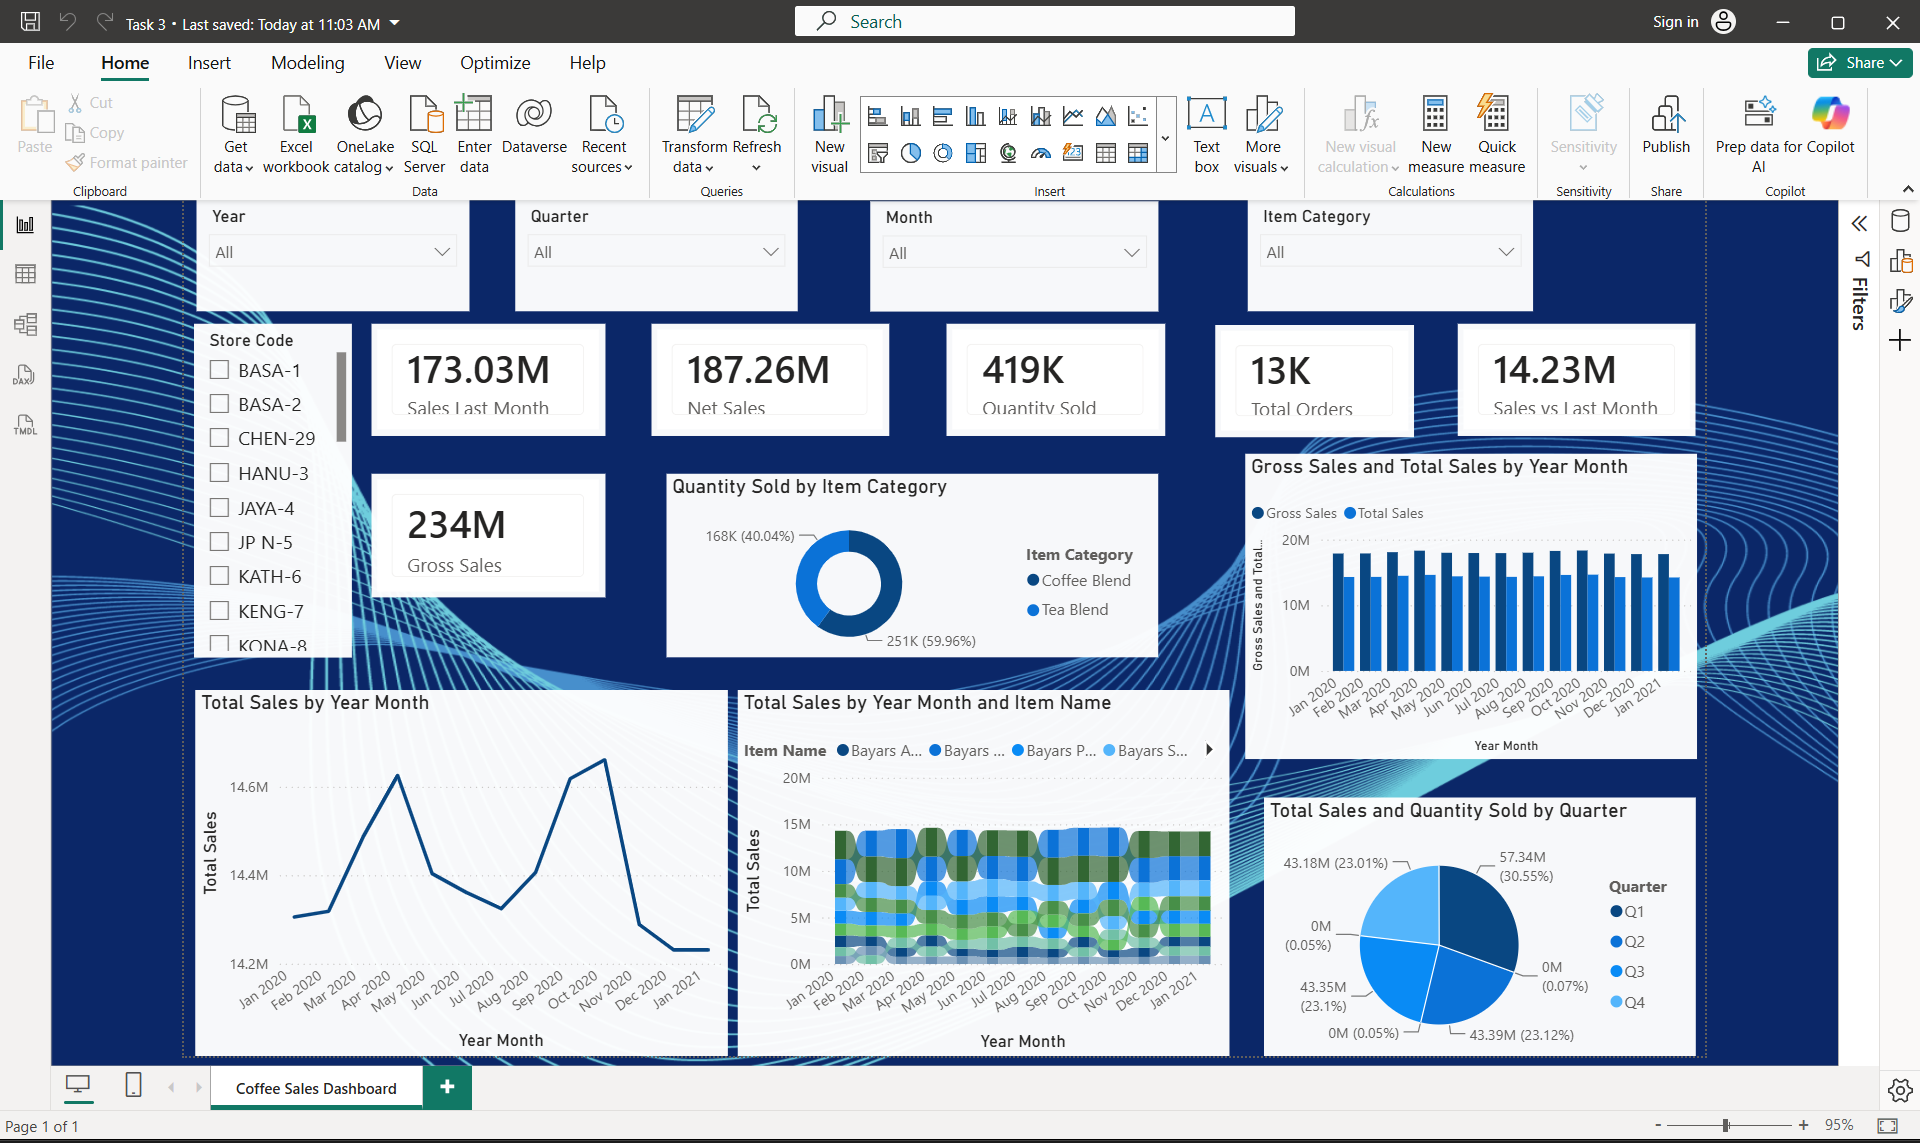

What the dashboard file says about the page in this screenshot:
{"tool":"powerbi","page":{"name":"Coffee Sales Dashboard","canvas":[1280,720],"ordinal":0},"visuals":[{"type":"slicer","fields":{"Values":["Date Table.Year"]},"box":[10.5,0,229.2,93.6],"z":0},{"type":"slicer","fields":{"Values":["Date Table.Quarter"]},"box":[278.8,0,237.5,93.8],"z":1000},{"type":"slicer","fields":{"Values":["Date Table.Month"]},"box":[577.5,1.2,242.5,92.5],"z":2000},{"type":"slicer","fields":{"Values":["Coffee_Sales.Store Code"]},"box":[8.4,104.3,133,280.4],"z":3000},{"type":"slicer","fields":{"Values":["Coffee_Sales.Item Category"]},"box":[895,0,240,93.8],"z":4000},{"type":"cardVisual","fields":{"Data":["Coffee_Sales.Quantity Sold"]},"box":[641.4,104.1,184,94.6],"z":6000},{"type":"cardVisual","fields":{"Data":["Coffee_Sales.Total Orders"]},"box":[867.4,105.1,167.2,94.6],"z":7000},{"type":"cardVisual","fields":{"Data":["Coffee_Sales.Sales Last Month"]},"box":[158.2,104.3,196.6,94.7],"z":8000},{"type":"cardVisual","fields":{"Data":["Coffee_Sales.Sales vs Last Month"]},"box":[1071.5,104.3,200.1,94.7],"z":9000},{"type":"cardVisual","fields":{"Data":["Coffee_Sales.Gross Sales"]},"box":[157.7,230.3,196.6,104.1],"z":11000},{"type":"cardVisual","fields":{"Data":["Coffee_Sales.Net Sales"]},"box":[393.2,104.1,199.8,94.6],"z":12000},{"type":"lineChart","fields":{"Y":["Coffee_Sales.Total Sales"],"Category":["Date Table.Year Month"]},"box":[9.6,412.3,448.2,308],"z":13000},{"type":"donutChart","fields":{"Category":["Coffee_Sales.Item Category"],"Y":["Coffee_Sales.Quantity Sold"]},"box":[406.3,230.1,413.5,154.6],"z":14000},{"type":"pieChart","fields":{"Category":["Coffee_Sales.Item Category","Date Table.Quarter"],"Y":["Coffee_Sales.Total Sales","Coffee_Sales.Quantity Sold"]},"box":[908.5,502.2,363.1,218.1],"z":15000},{"type":"clusteredColumnChart","fields":{"Category":["Date Table.Year Month"],"Y":["Coffee_Sales.Gross Sales","Coffee_Sales.Total Sales"]},"box":[892.9,213.3,379.9,256.5],"z":16000},{"type":"ribbonChart","fields":{"Category":["Date Table.Year Month"],"Y":["Coffee_Sales.Total Sales"],"Series":["Coffee_Sales.Item Name"]},"box":[466.2,412.3,413.5,308],"z":17000}]}

Visuals, with their boxes on the page's 1280x720 design canvas (x1, y1, x2, y2). These are canvas units, not pixel positions in the 1920x1143 screenshot, which may show the page scaled, cropped or inside an application window:
slicer - Date Table.Year: [10, 0, 240, 94]
slicer - Date Table.Quarter: [279, 0, 516, 94]
slicer - Date Table.Month: [578, 1, 820, 94]
slicer - Coffee_Sales.Store Code: [8, 104, 141, 385]
slicer - Coffee_Sales.Item Category: [895, 0, 1135, 94]
cardVisual - Coffee_Sales.Quantity Sold: [641, 104, 825, 199]
cardVisual - Coffee_Sales.Total Orders: [867, 105, 1035, 200]
cardVisual - Coffee_Sales.Sales Last Month: [158, 104, 355, 199]
cardVisual - Coffee_Sales.Sales vs Last Month: [1072, 104, 1272, 199]
cardVisual - Coffee_Sales.Gross Sales: [158, 230, 354, 334]
cardVisual - Coffee_Sales.Net Sales: [393, 104, 593, 199]
lineChart - Coffee_Sales.Total Sales x Date Table.Year Month: [10, 412, 458, 720]
donutChart - Coffee_Sales.Item Category x Coffee_Sales.Quantity Sold: [406, 230, 820, 385]
pieChart - Coffee_Sales.Item Category x Date Table.Quarter: [908, 502, 1272, 720]
clusteredColumnChart - Date Table.Year Month x Coffee_Sales.Gross Sales: [893, 213, 1273, 470]
ribbonChart - Date Table.Year Month x Coffee_Sales.Total Sales: [466, 412, 880, 720]
